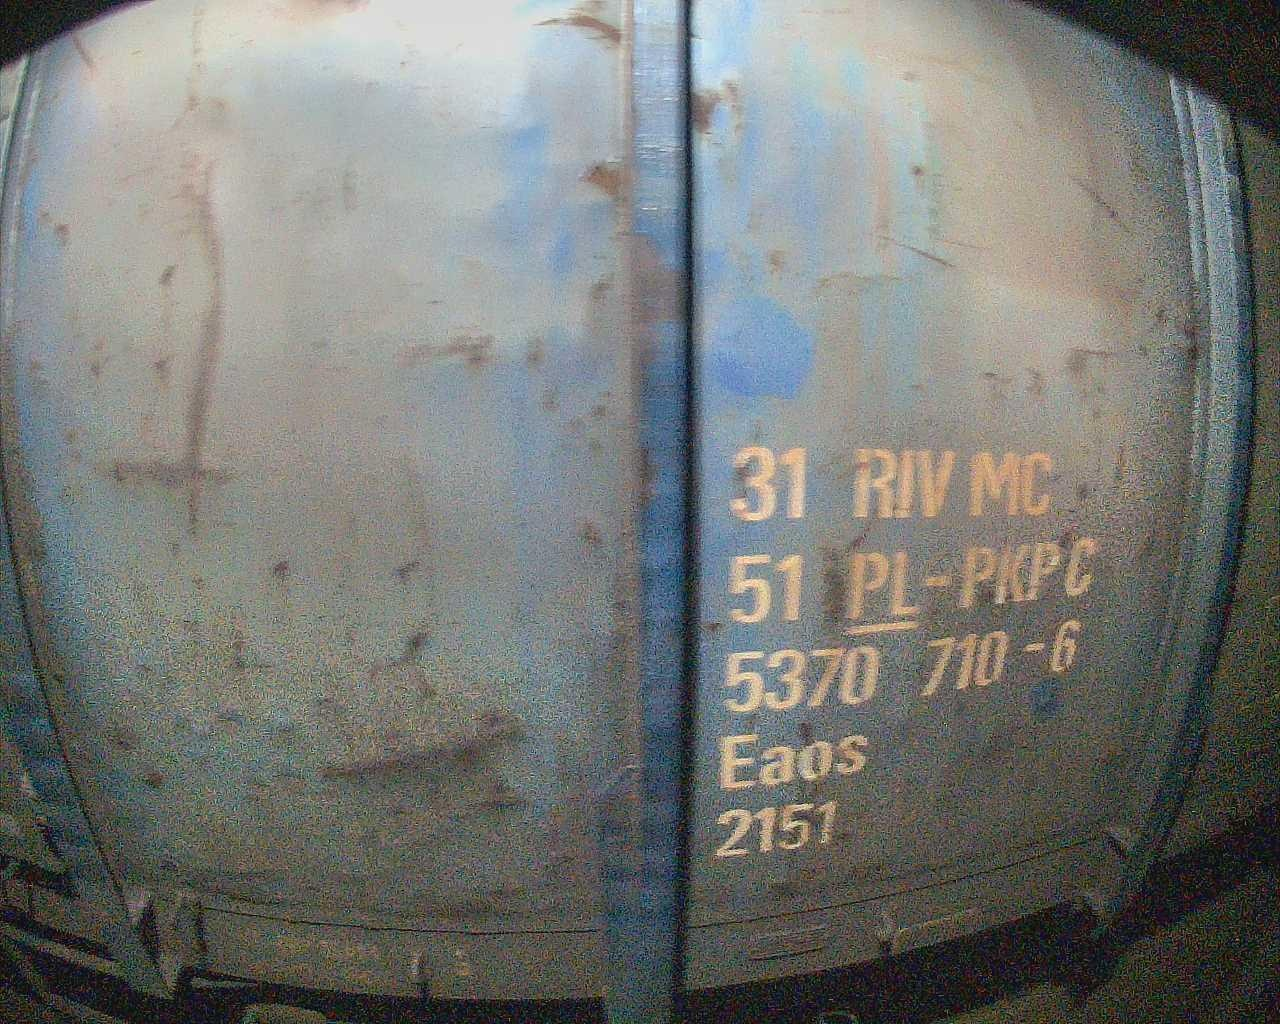UIC: (712, 445, 1099, 857)
